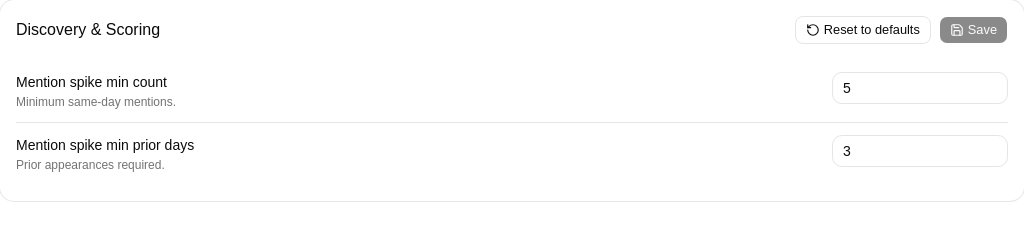
Test: SettingsCategoryForm › names the rule a rejected combination broke
Replace the text in the number field labelled "Mention spike min count" with "9". click: (920,88)
box: [832, 72, 1008, 104]
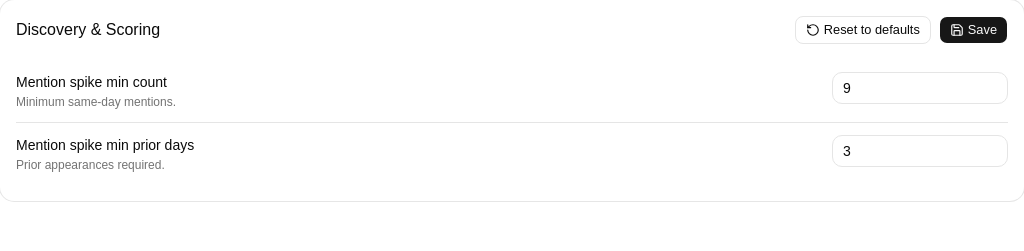
Click the button "Save". click: (973,30)
box: [939, 16, 1008, 44]
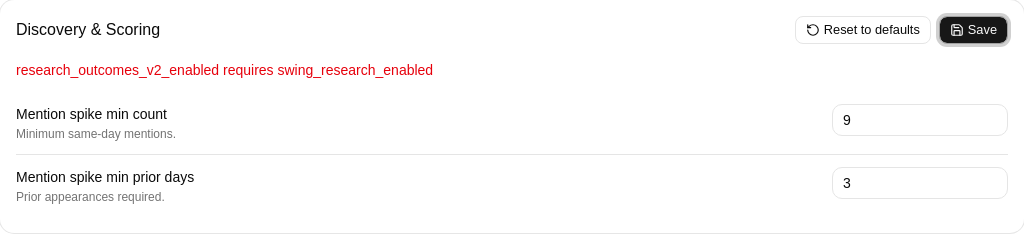
Check: the message does not show "Value error", box [16, 62, 433, 78]
Check: the message reads "research_outcomes_v2_enabled requires swing_research_enabled", box [16, 62, 433, 78]
